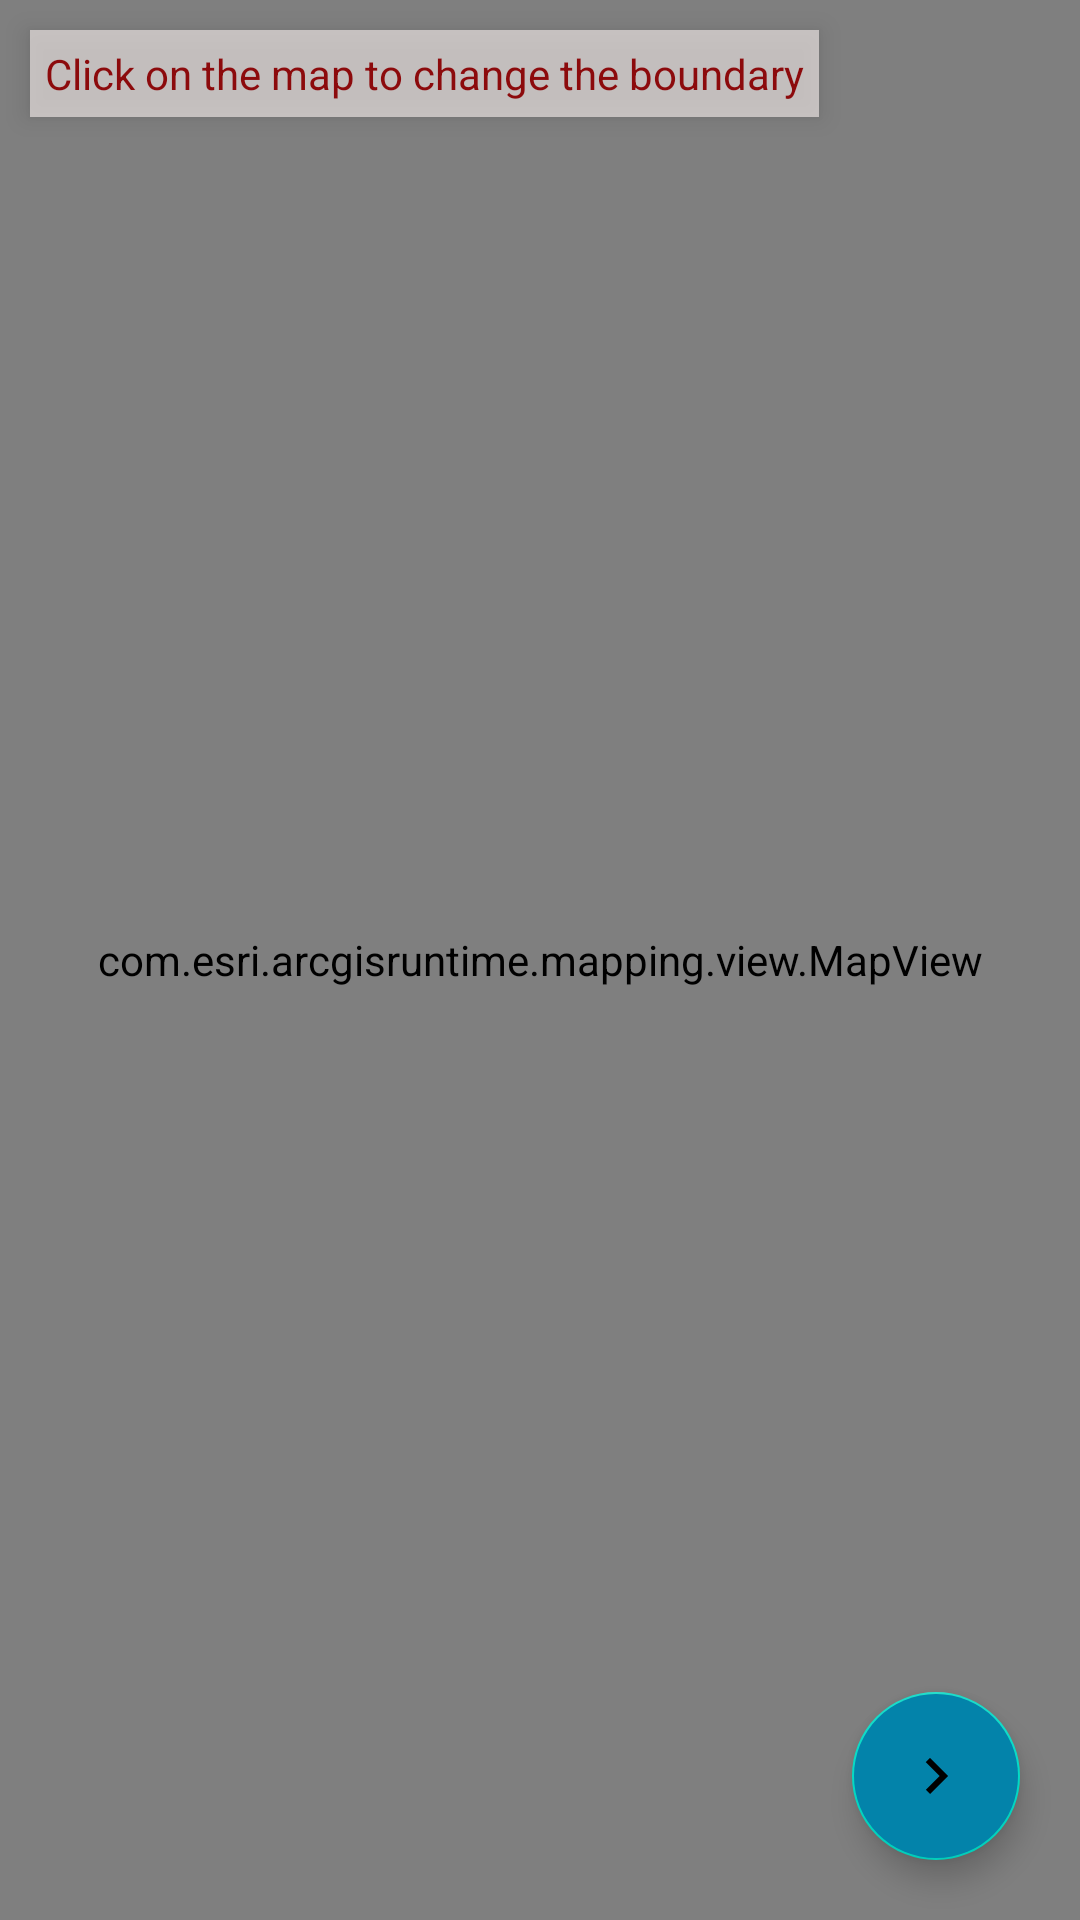

Point at icon controls on the screen. Image size 1080×1920, points as (x,y).
keyboard arrow right: (936,1776)
